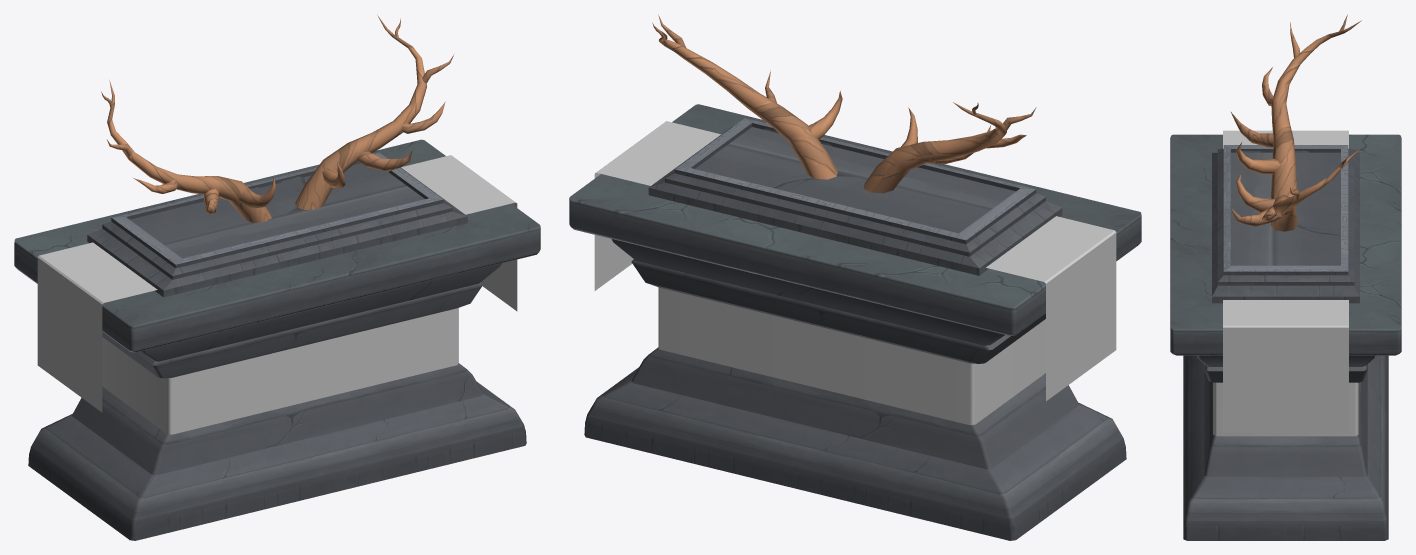
File: SM_Altar_01.fbx
3 views of the same model, side by side, from view 1: azimuth 30°, elevation 25°; view 2: azimuth 150°, elevation 25°; view 3: azimuth 270°, elevation 25° (orthographic). The views are drawn at different scales.
Parts seen in each view (by area): view 1: SM_Altar_01; view 2: SM_Altar_01; view 3: SM_Altar_01.
Boxes of the visible parts, box(x1,y1,x2,y2) form: SM_Altar_01: box(14, 15, 540, 540); SM_Altar_01: box(569, 14, 1141, 540); SM_Altar_01: box(1170, 14, 1401, 540).
Size of the model in its own units: 274 by 238 by 136.
